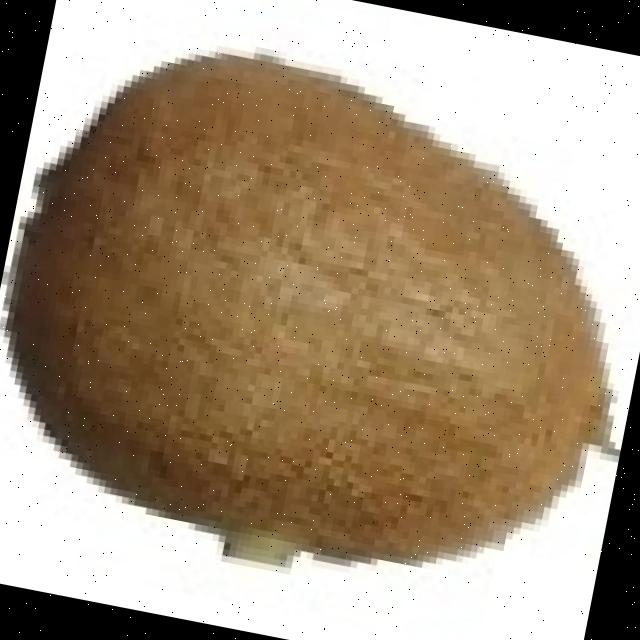kiwi: (21, 52, 619, 550)
